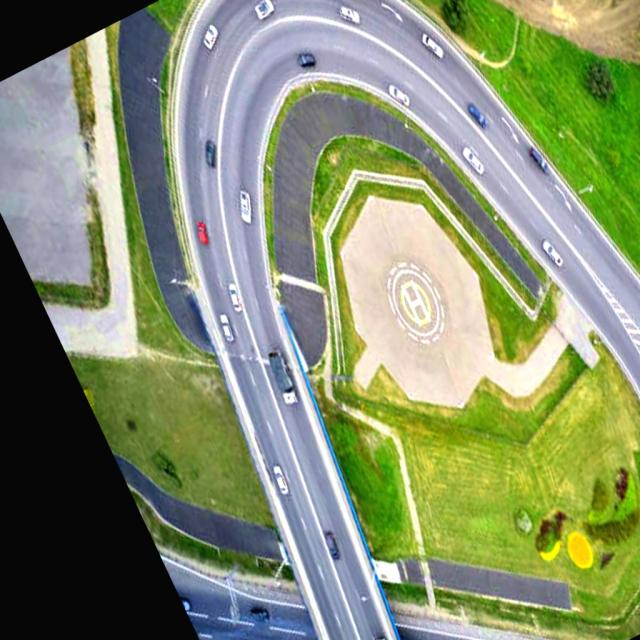helipad: (397, 279, 432, 326)
